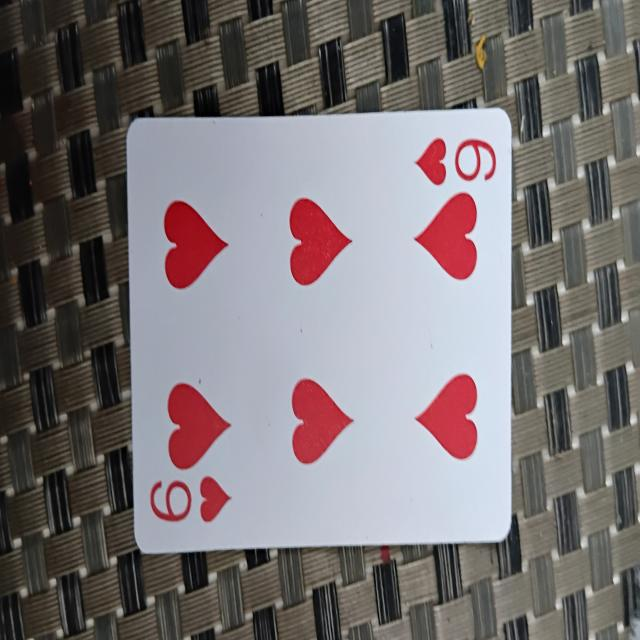6H: (130, 110, 512, 554)
